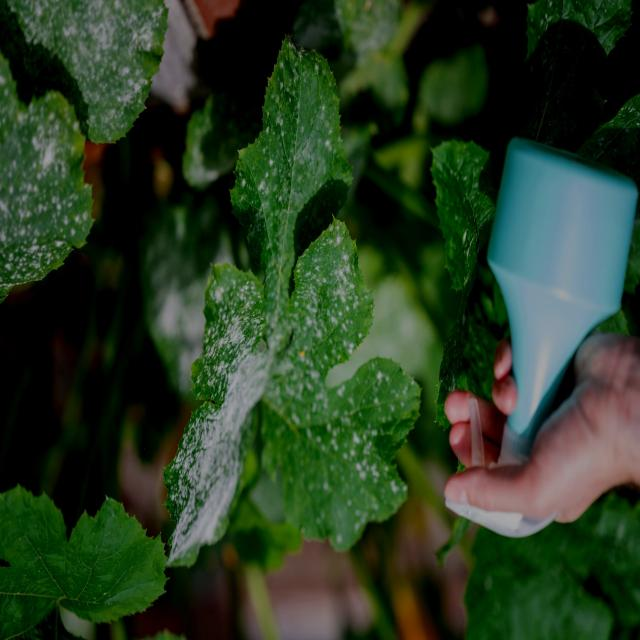Powdery Mildew: (17, 11, 160, 308), (161, 261, 272, 568)
